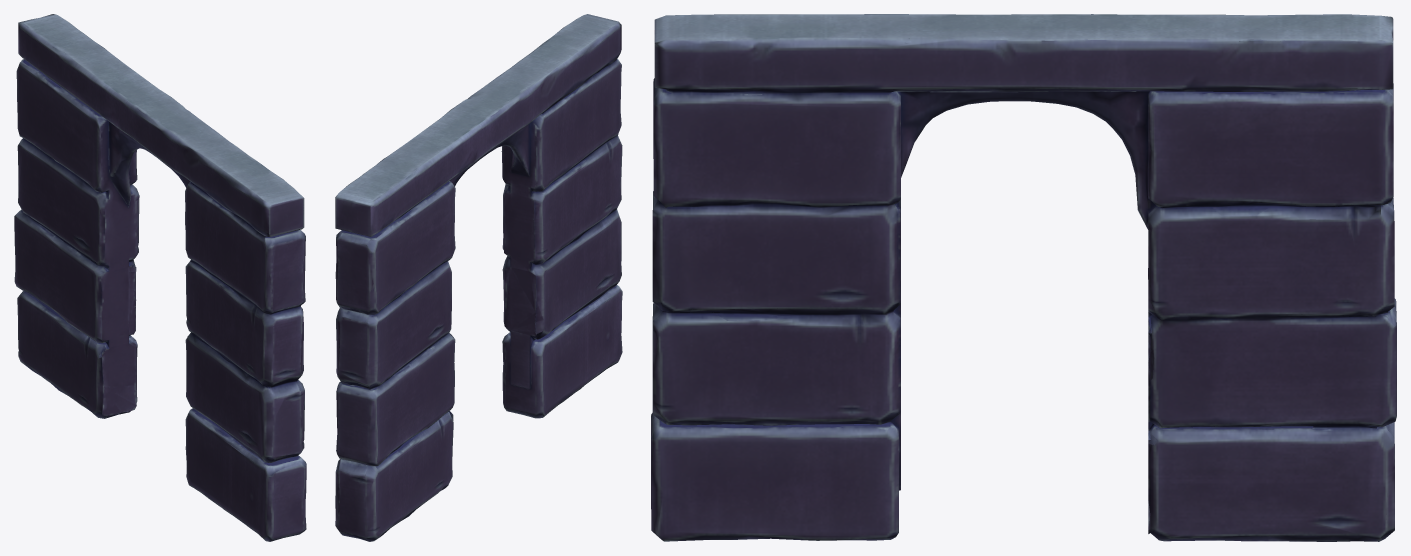
File: doorWayGray.glb
The picture shows the model from 3 angles, left to right: view 1: azimuth 30°, elevation 25°; view 2: azimuth 150°, elevation 25°; view 3: azimuth 270°, elevation 25°; orthographic projection. The views are drawn at different scales.
Visible parts, largest first — view 1: Wall4_01; view 2: Wall4_01; view 3: Wall4_01.
Boxes of the visible parts, x1,y1,x2,y2 form: Wall4_01: [14, 14, 306, 541]; Wall4_01: [335, 14, 622, 541]; Wall4_01: [651, 14, 1396, 541].
Bounding box in the file's own units: 0.0881 × 0.6401 × 0.8585.
Materials: 1 (1 with a texture image).
